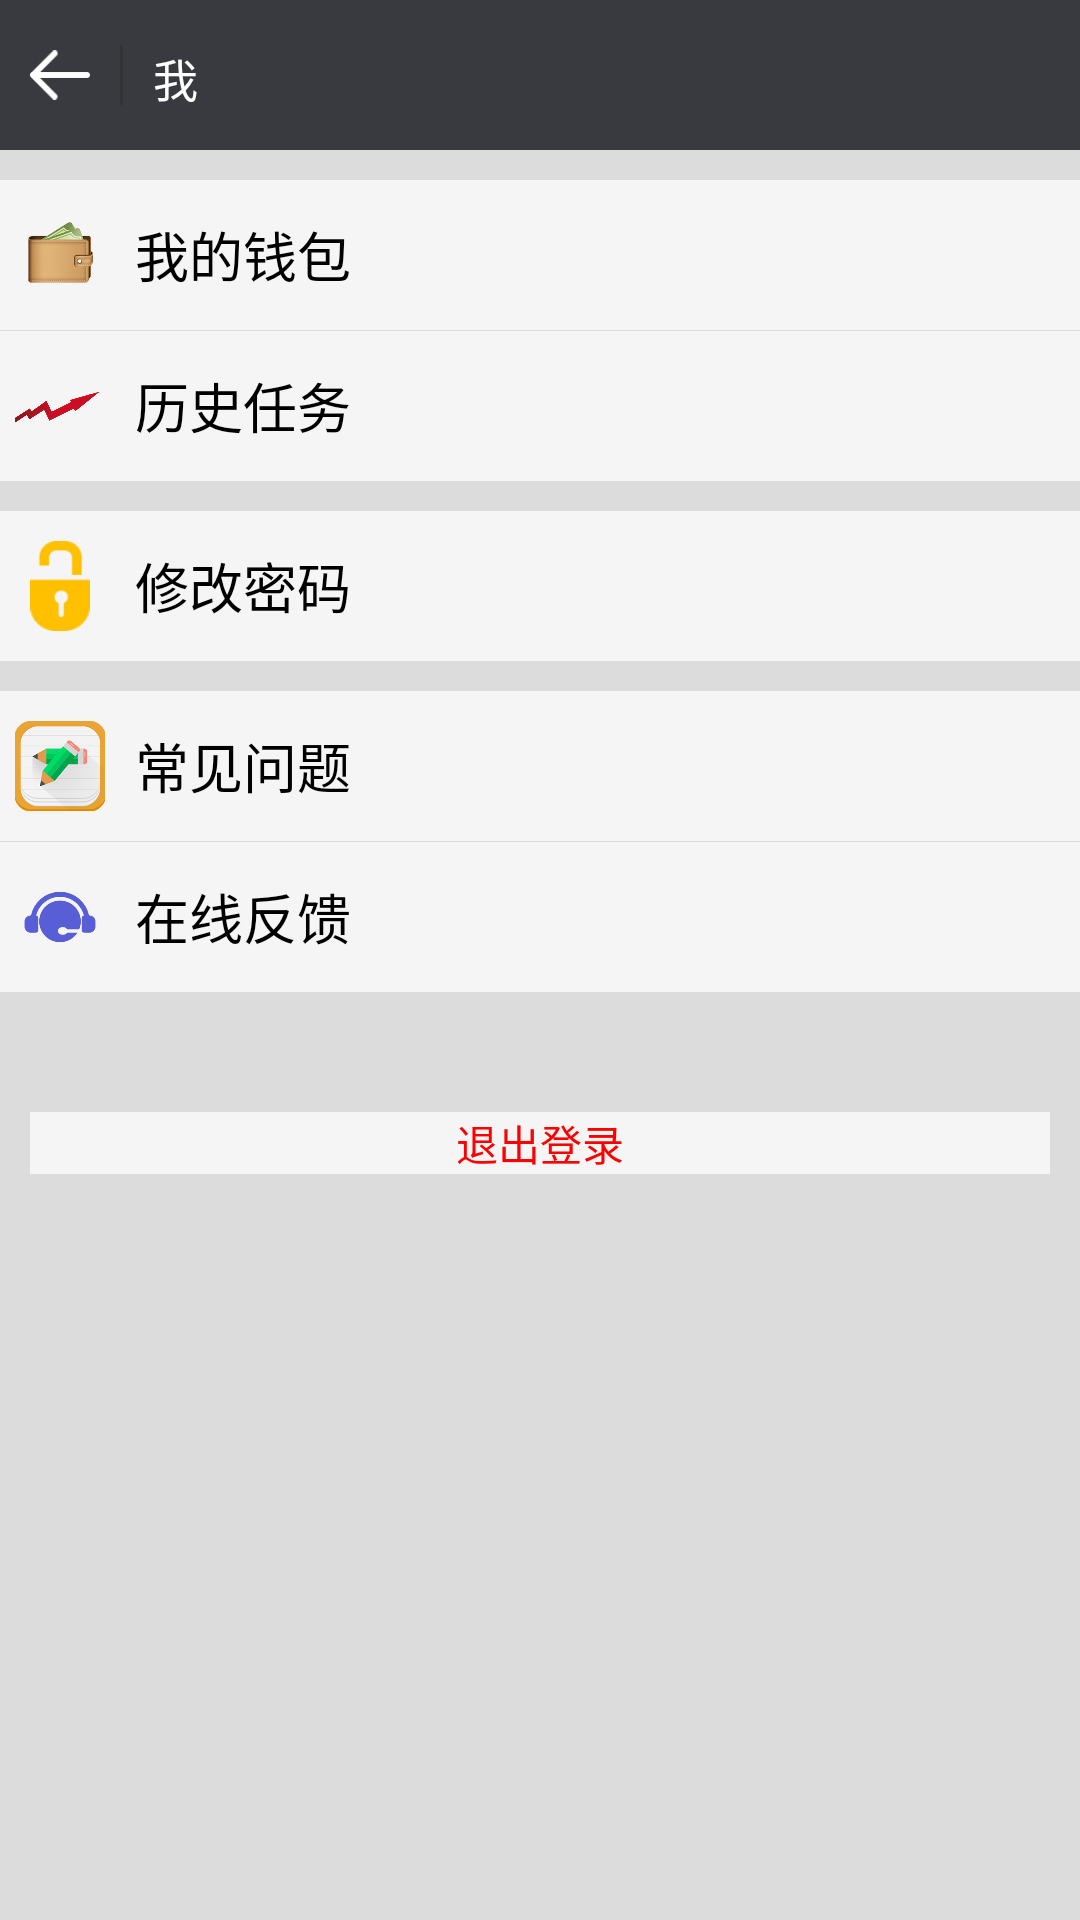

Locate icon controls on the screen. Image size 1080x1920, boxes as [x1=x1, y1=y1, x2=x2, y2=y2].
changpwd: [x1=30, y1=541, x2=90, y2=631]
feedback: [x1=24, y1=892, x2=96, y2=942]
wallet: [x1=28, y1=222, x2=93, y2=283]
返回: [x1=30, y1=50, x2=90, y2=100]
